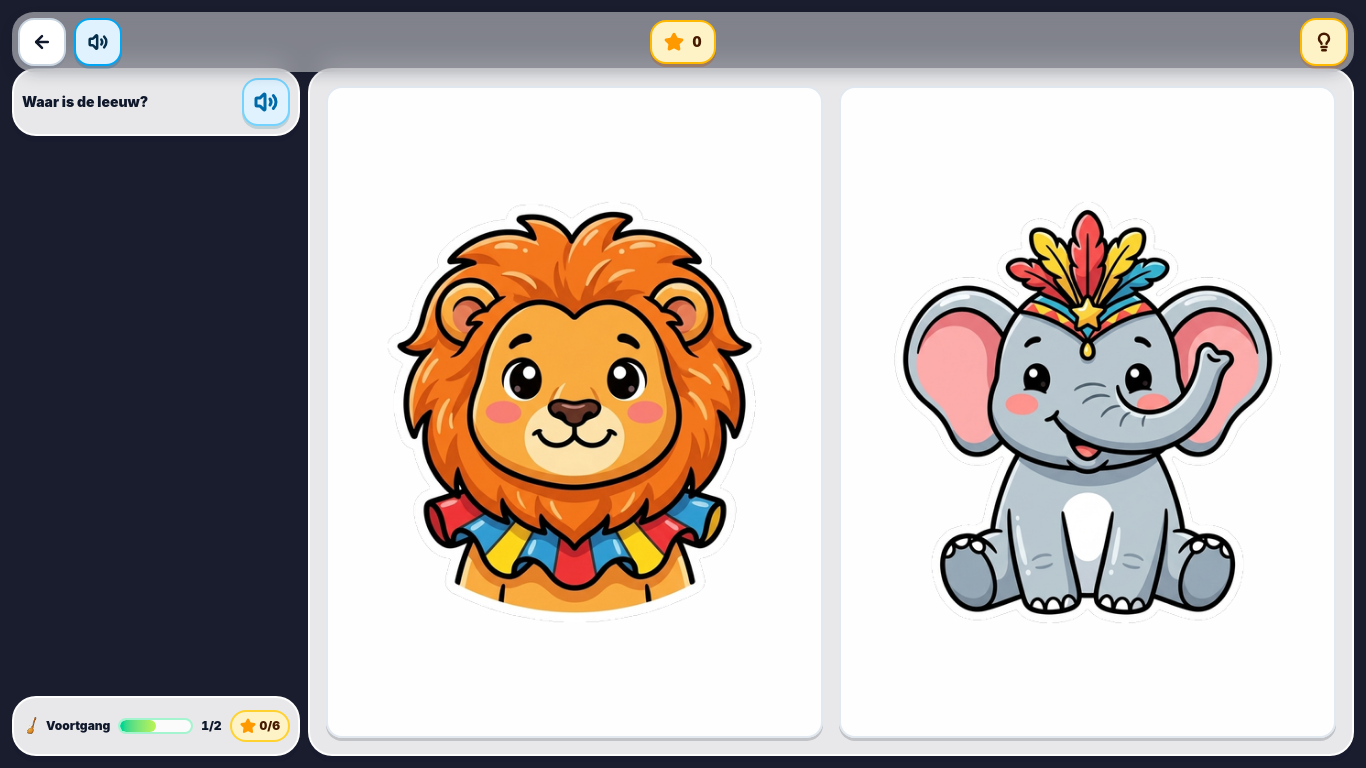
WordChoiceScreen afronding en resultaten › herstart de ronde bij klikken op 'Opnieuw'
Voltooi beide opdrachten
Click the button named "leeuw".
click(574, 412)  # box [326,86,823,738]
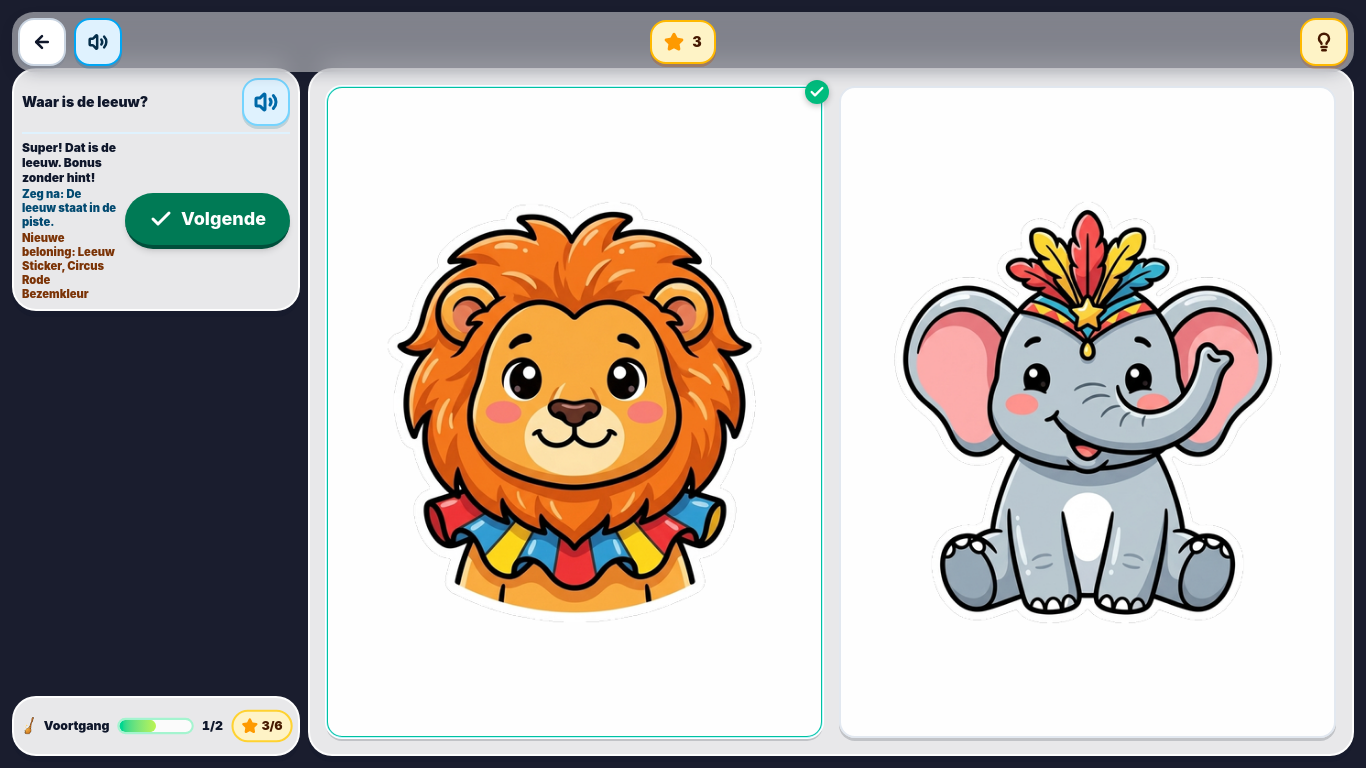
Click the button with test id "word-choice-next-button".
click(208, 220)  # box [125,192,290,248]
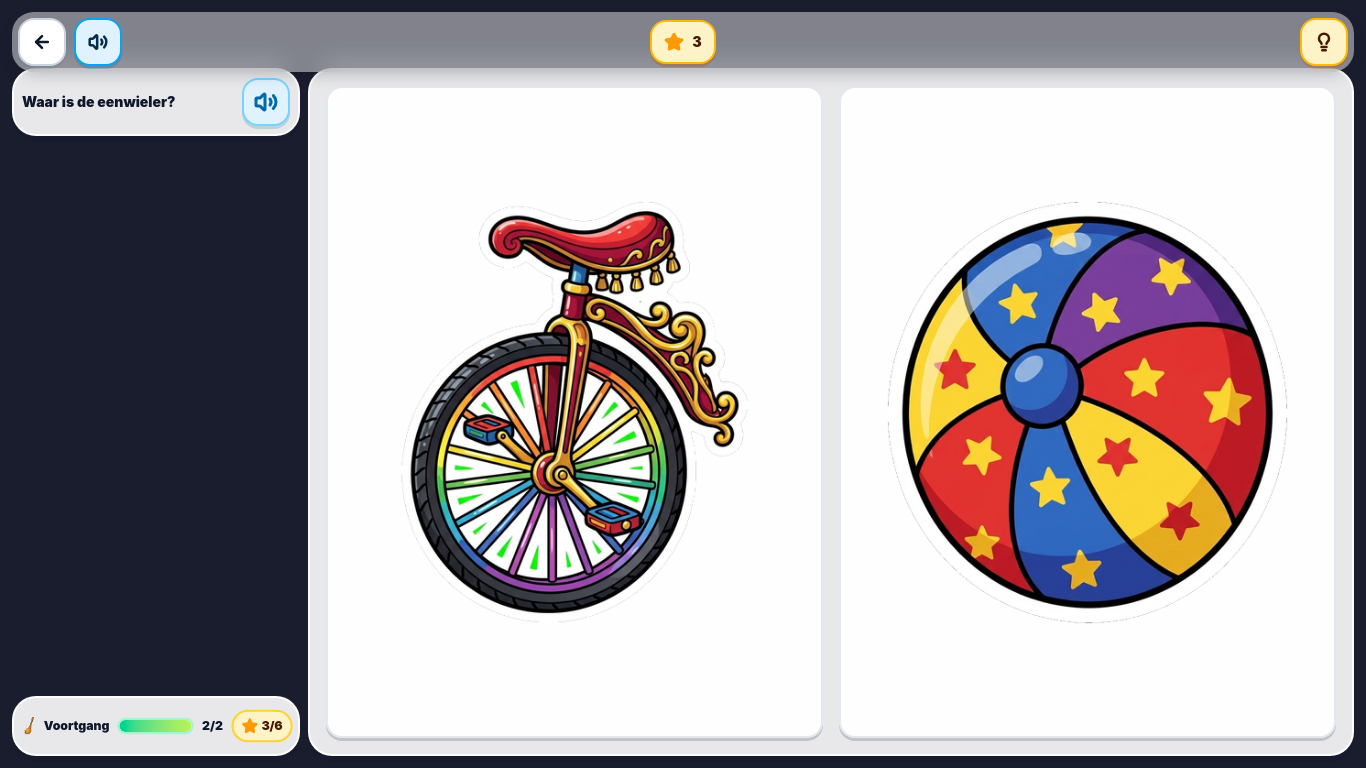
Click the button named "eenwieler".
click(574, 412)  # box [326,86,823,738]
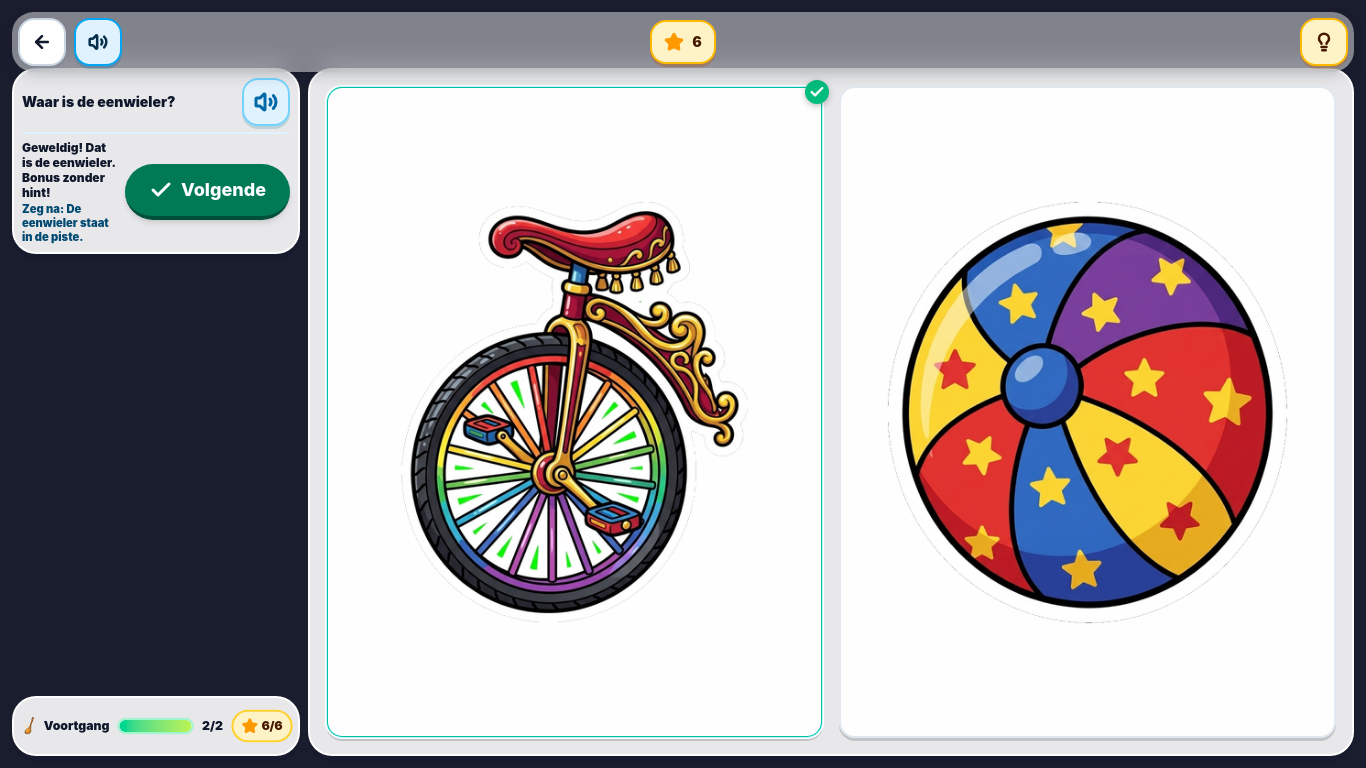
Click the button with test id "word-choice-next-button".
click(208, 192)  # box [125,164,290,220]
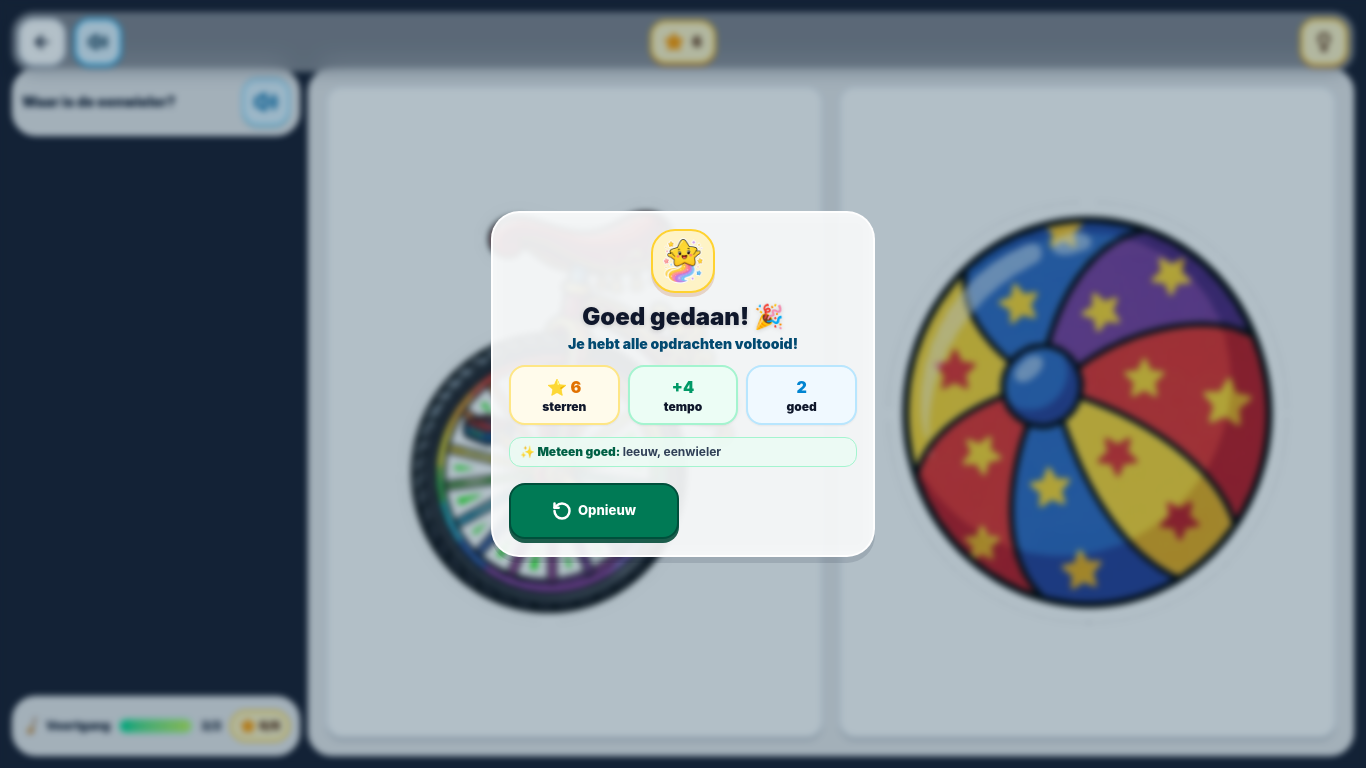
Expected: the element with test id "word-choice-round-summary" is shown
Klik opnieuw
Click the button with test id "word-choice-summary-replay-button".
click(594, 511)  # box [509,483,679,539]
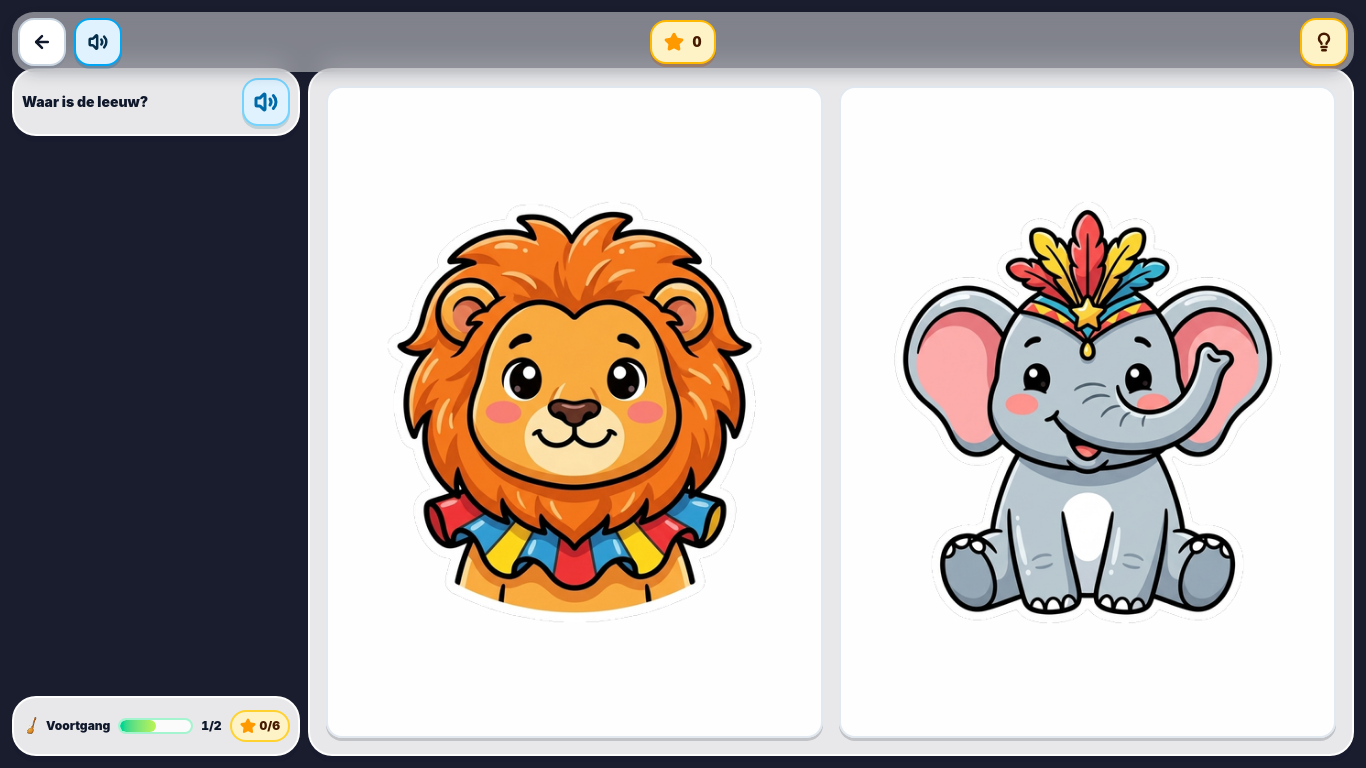
Expected: the element with test id "word-choice-round-summary" is gone
Expected: the text "Waar is de leeuw?" is shown, [22,93,148,110]
